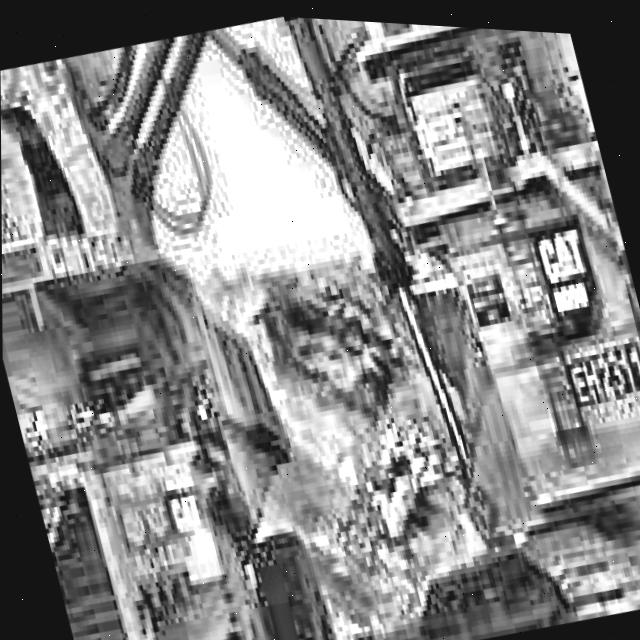dump_truck: (1, 151, 395, 640)
excavator: (0, 0, 640, 640)
